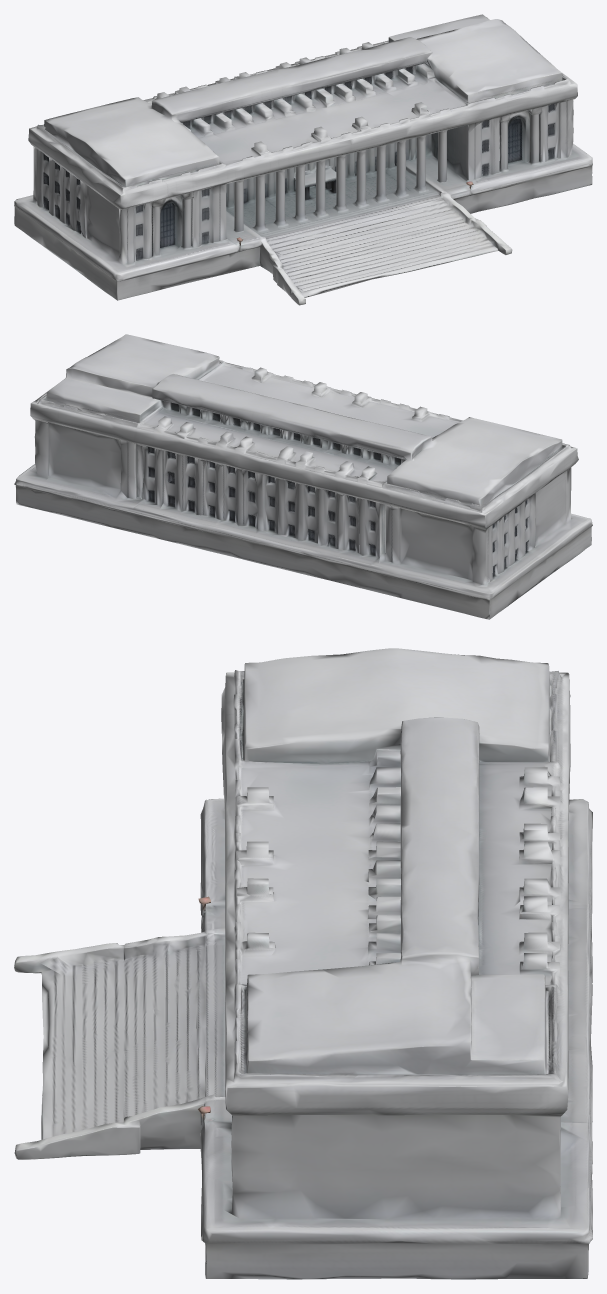
Rendered from khu-global-central-library.glb.
3 renders of one model, top to bottom at view 1: azimuth 30°, elevation 25°; view 2: azimuth 150°, elevation 25°; view 3: azimuth 270°, elevation 25°, orthographic. The views are drawn at different scales.
Parts seen in each view (by area): view 1: tripo_node_8a539ad4-d5f2-4465-8007-6f26fde8dbaf; view 2: tripo_node_8a539ad4-d5f2-4465-8007-6f26fde8dbaf; view 3: tripo_node_8a539ad4-d5f2-4465-8007-6f26fde8dbaf.
Part boxes in pixels (x1,y1,x2,y2): tripo_node_8a539ad4-d5f2-4465-8007-6f26fde8dbaf: (14, 14, 592, 305); tripo_node_8a539ad4-d5f2-4465-8007-6f26fde8dbaf: (14, 334, 592, 619); tripo_node_8a539ad4-d5f2-4465-8007-6f26fde8dbaf: (14, 648, 592, 1279).
Bounding box in the file's own units: 1 × 0.2466 × 0.5625.
Materials: 1 (1 with a texture image).
